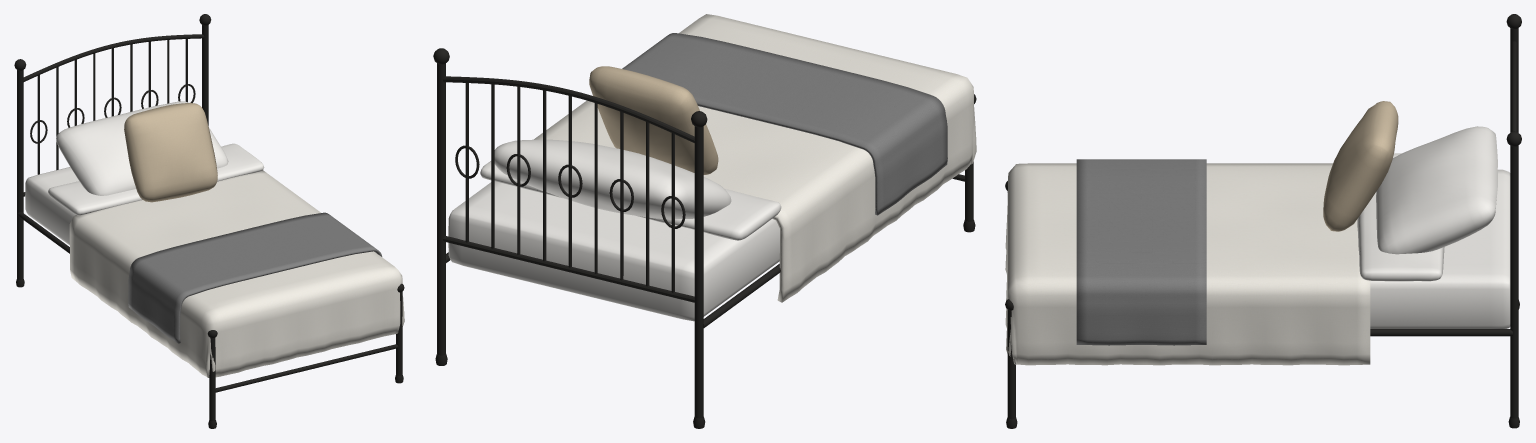
The model's file is cama_forja_105.glb.
3 views of the same model, side by side, from view 1: azimuth 30°, elevation 25°; view 2: azimuth 150°, elevation 25°; view 3: azimuth 270°, elevation 25° (orthographic). The views are drawn at different scales.
Visible parts, largest first — view 1: cama_forja_105; view 2: cama_forja_105; view 3: cama_forja_105.
Boxes of the visible parts, x1,y1,x2,y2 form: cama_forja_105: (14, 14, 404, 428); cama_forja_105: (433, 14, 976, 428); cama_forja_105: (1005, 14, 1521, 428).
Size of the model in its own units: 1.2 by 1.25 by 1.99.
Materials: 5 (4 with a texture image).
